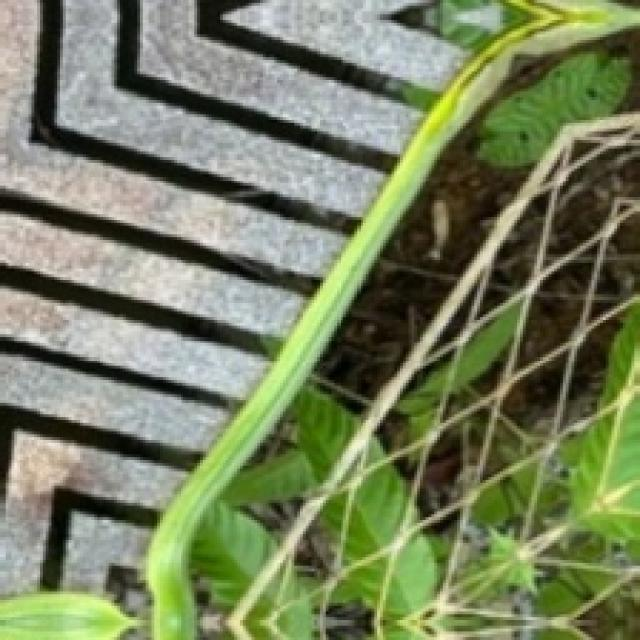red-tailed green ratsnake: (146, 0, 639, 639)
